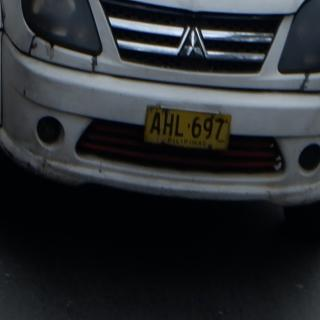license: (145, 108, 232, 151)
